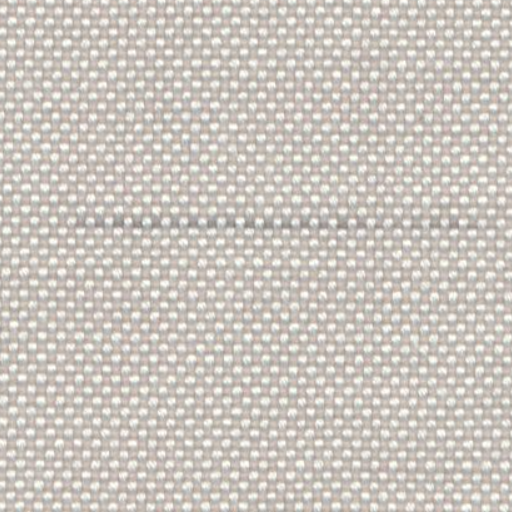WuZi: (68, 207, 464, 230)
